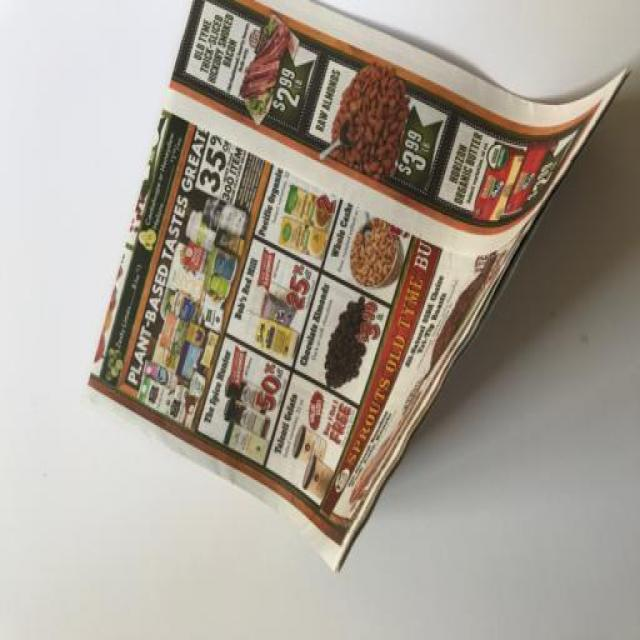paper: (99, 1, 612, 548)
